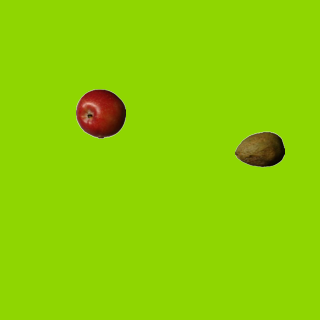Apple Braeburn: (75, 88, 125, 138)
Papaya: (234, 124, 284, 174)
